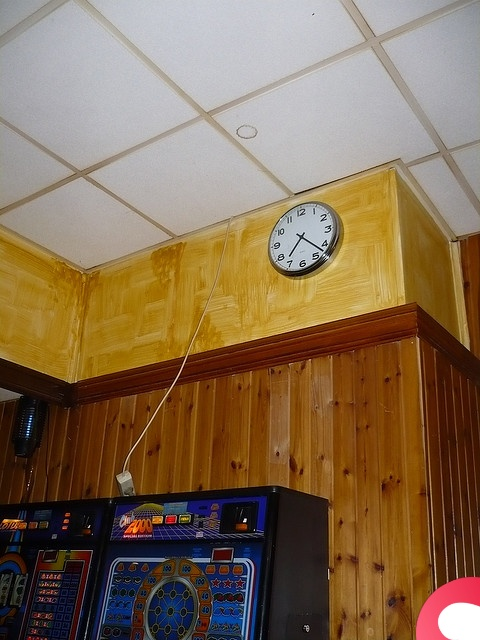love: (416, 577, 480, 640)
